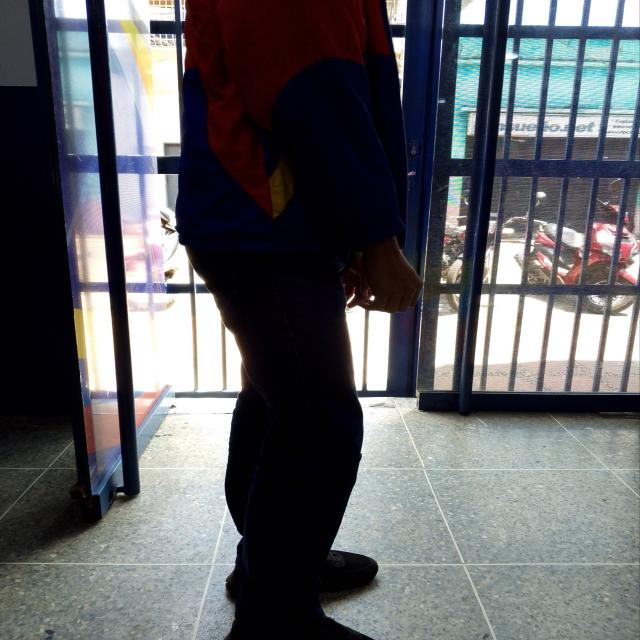chaqueta_unefa: (174, 0, 410, 253)
